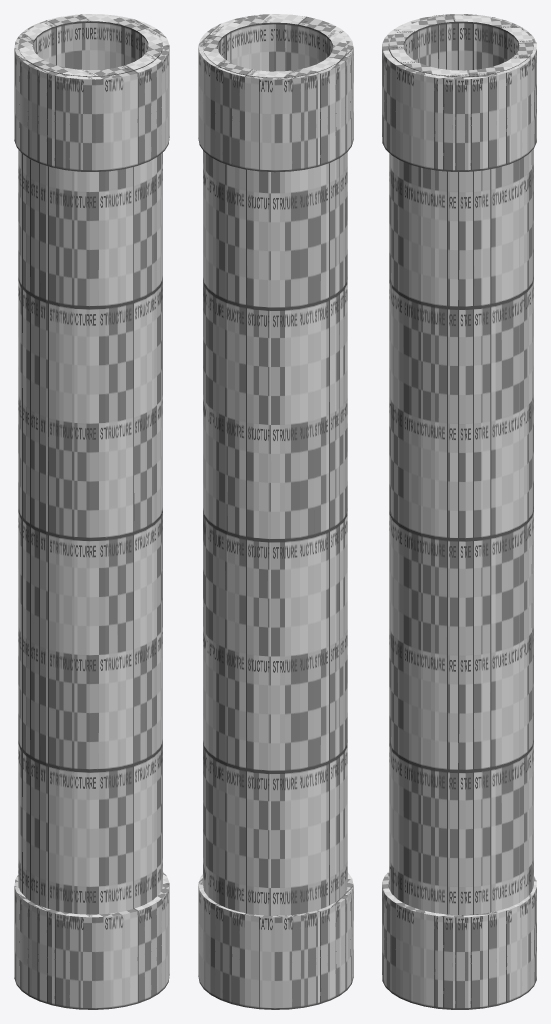
The model's file is Pipe(wall).fbx.
3 renders of one model, left to right at view 1: azimuth 30°, elevation 25°; view 2: azimuth 150°, elevation 25°; view 3: azimuth 270°, elevation 25°, orthographic.
Parts seen in each view (by area): view 1: Pipe_wall_, Pipe_Ring_wall__1, Pipe_Ring_wall_; view 2: Pipe_wall_, Pipe_Ring_wall__1, Pipe_Ring_wall_; view 3: Pipe_wall_, Pipe_Ring_wall__1, Pipe_Ring_wall_.
Boxes of the visible parts, x1,y1,x2,y2 form: Pipe_wall_: (18,15,162,914); Pipe_Ring_wall__1: (14,14,169,171); Pipe_Ring_wall_: (14,872,169,1009); Pipe_wall_: (203,16,347,915); Pipe_Ring_wall__1: (198,14,353,172); Pipe_Ring_wall_: (198,872,353,1009); Pipe_wall_: (389,15,533,914); Pipe_Ring_wall__1: (382,14,536,171); Pipe_Ring_wall_: (382,871,536,1009).
Bounding box in the file's own units: 86.62 × 575 × 86.62.
